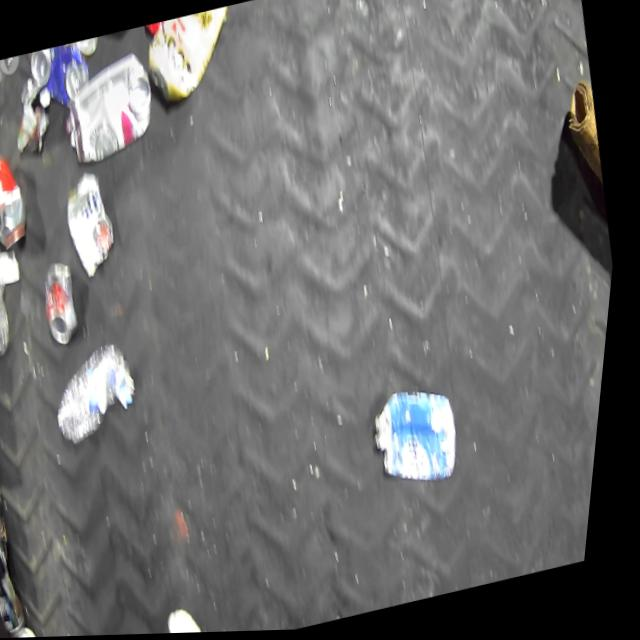can: (58, 167, 132, 284), (25, 40, 99, 117), (39, 257, 93, 348), (0, 147, 42, 256), (53, 36, 105, 64), (25, 622, 65, 638)
plastic_bottle: (48, 337, 155, 449), (0, 214, 31, 362)
